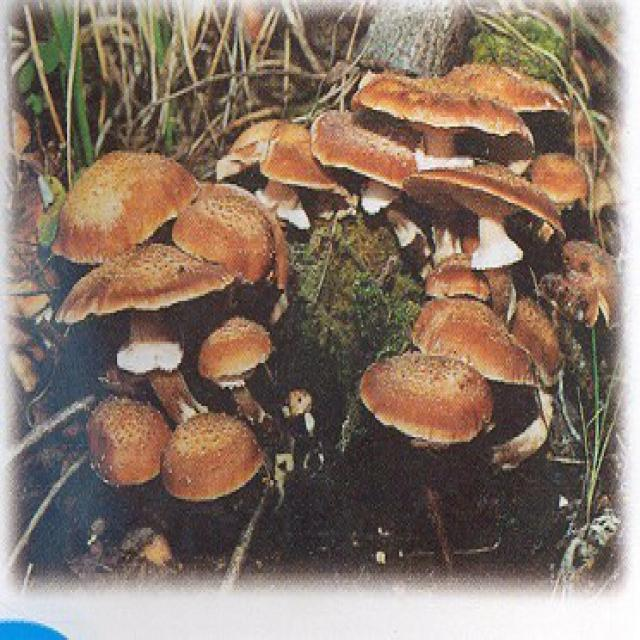Armillaria mellea: (243, 61, 620, 448), (55, 148, 277, 502)
